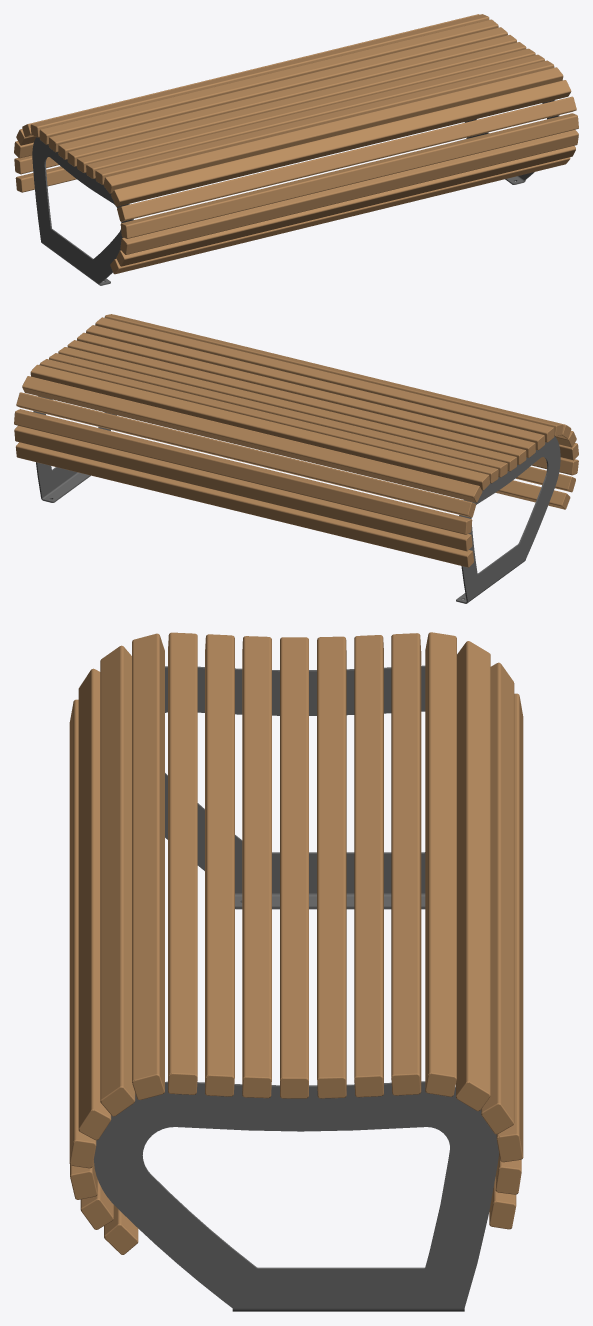
Rendered from Skamya_7.glb.
The picture shows the model from 3 angles, top to bottom: view 1: azimuth 30°, elevation 25°; view 2: azimuth 150°, elevation 25°; view 3: azimuth 270°, elevation 25°; orthographic projection. The views are drawn at different scales.
Parts seen in each view (by area): view 1: Mesh 22814, Mesh 24929; view 2: Mesh 22814, Mesh 24929; view 3: Mesh 22814, Mesh 24929.
Boxes of the visible parts, x1,y1,x2,y2 form: Mesh 22814: (14,14,578,274); Mesh 24929: (32,100,559,285); Mesh 22814: (14,314,578,567); Mesh 24929: (33,396,560,603); Mesh 22814: (69,632,523,1254); Mesh 24929: (94,665,498,1311).
Bounding box in the file's own units: 1.8 × 0.4811 × 0.7821.
